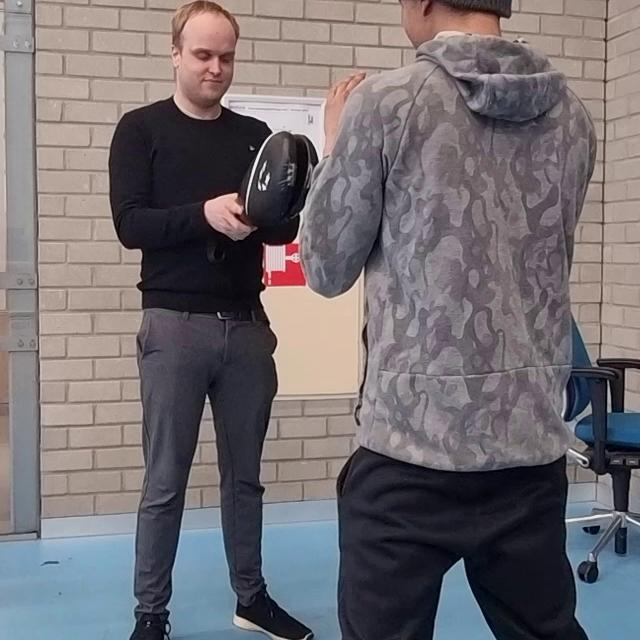paddle: (235, 131, 316, 226)
